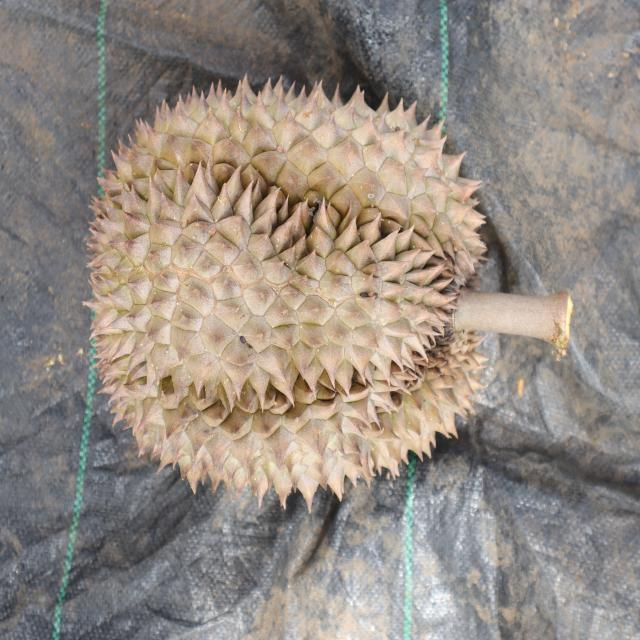mature: (84, 73, 494, 517)
